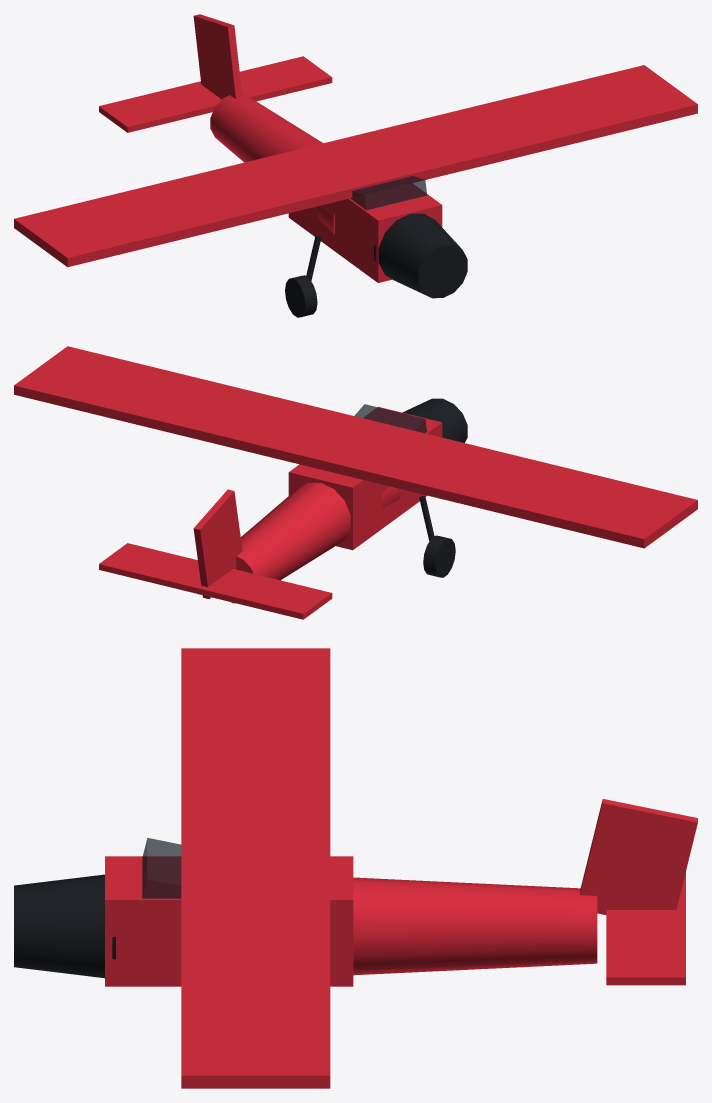
The model's file is plane_prop.glb.
3 views of the same model, one above another, from view 1: azimuth 30°, elevation 25°; view 2: azimuth 150°, elevation 25°; view 3: azimuth 270°, elevation 25° (orthographic). The views are drawn at different scales.
Visible parts, largest first — view 1: plane_prop; view 2: plane_prop; view 3: plane_prop.
Part boxes in pixels (x1=…): plane_prop: x1=14, y1=14, x2=697, y2=317; plane_prop: x1=14, y1=346, x2=697, y2=619; plane_prop: x1=14, y1=648, x2=697, y2=1088.
Bounding box in the file's own units: 11.4 × 2.93 × 7.71.
